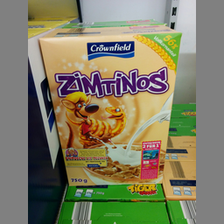cereal: (38, 29, 184, 184)
